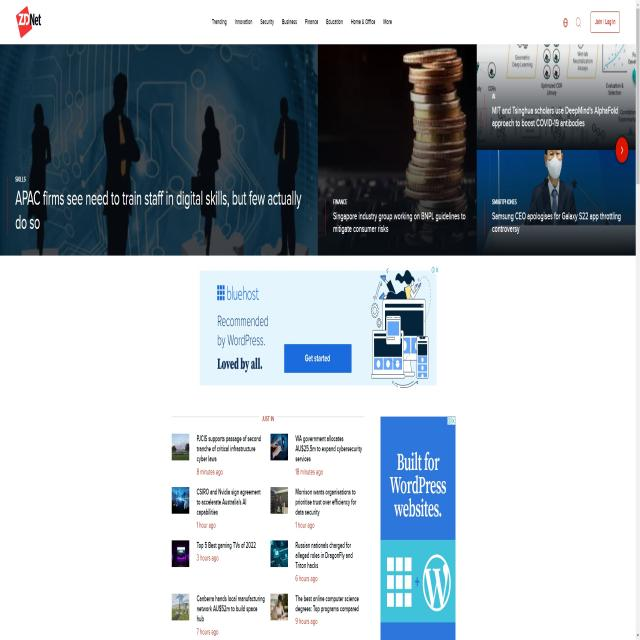menu-bar: (558, 7, 627, 36)
tab-bar: (207, 5, 397, 34)
